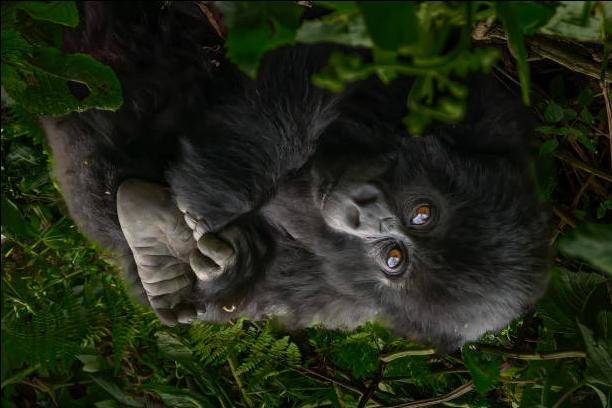goriile_montagne: (39, 15, 563, 371)
